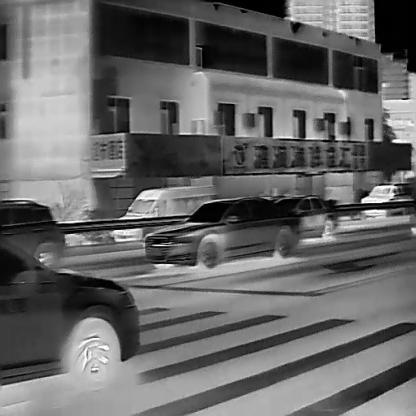car: (0, 236, 138, 389), (144, 194, 299, 272), (113, 183, 216, 240), (0, 197, 64, 268), (274, 195, 334, 240), (359, 181, 413, 216)
